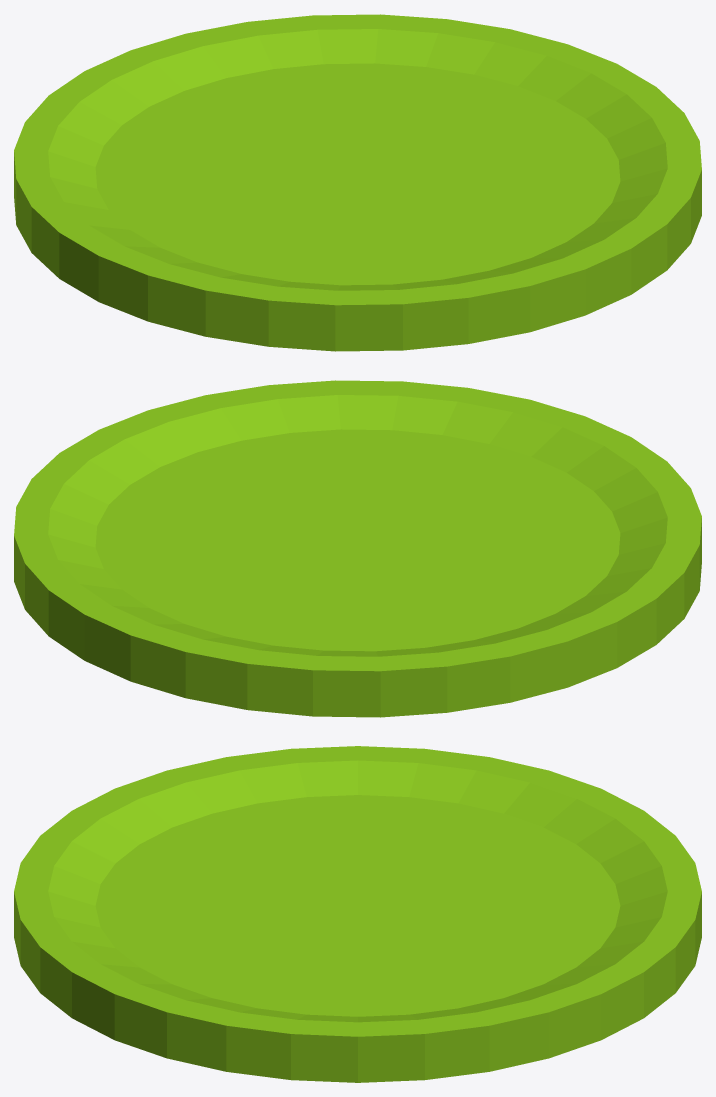
File: GreenPlatform.fbx
3 views of the same model, one above another, from view 1: azimuth 30°, elevation 25°; view 2: azimuth 150°, elevation 25°; view 3: azimuth 270°, elevation 25° (orthographic).
Parts seen in each view (by area): view 1: Cylinder; view 2: Cylinder; view 3: Cylinder.
Boxes of the visible parts, x1=… form: Cylinder: x1=14, y1=14, x2=701, y2=351; Cylinder: x1=14, y1=380, x2=701, y2=717; Cylinder: x1=14, y1=746, x2=701, y2=1082.
Bounding box in the file's own units: 1103 × 81.62 × 1103.
1 material, 1 textured.
